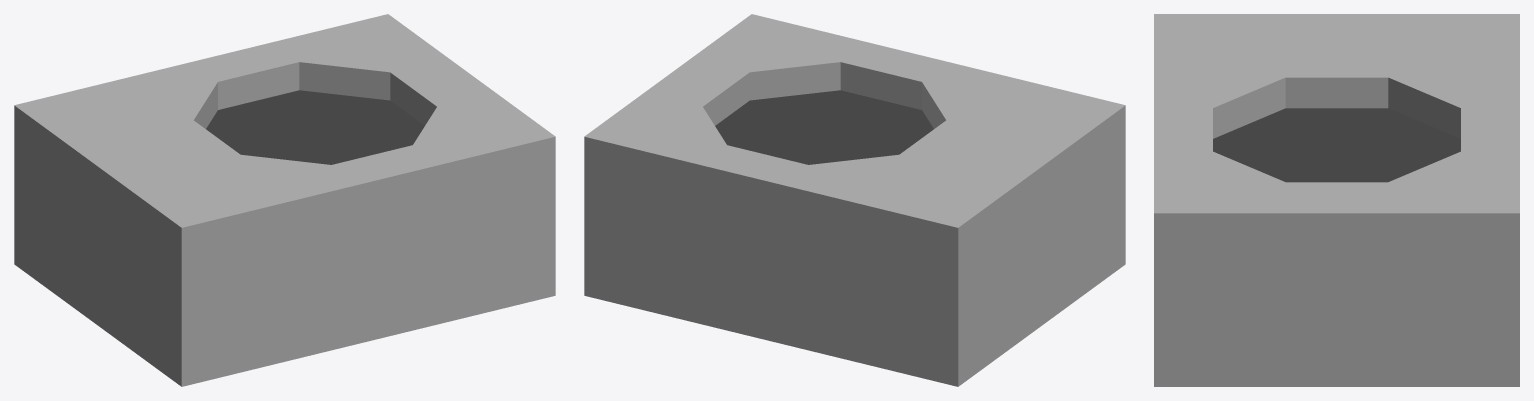
Rendered from HousePart_01.fbx.
3 renders of one model, left to right at view 1: azimuth 30°, elevation 25°; view 2: azimuth 150°, elevation 25°; view 3: azimuth 270°, elevation 25°, orthographic. The views are drawn at different scales.
Parts seen in each view (by area): view 1: HousePart_01; view 2: HousePart_01; view 3: HousePart_01.
Boxes of the visible parts, box(x1,y1,x2,y2) form: HousePart_01: box(14, 14, 555, 386); HousePart_01: box(584, 14, 1125, 386); HousePart_01: box(1154, 14, 1519, 386).
Size of the model in its own units: 79.8 by 32.43 by 61.92.
